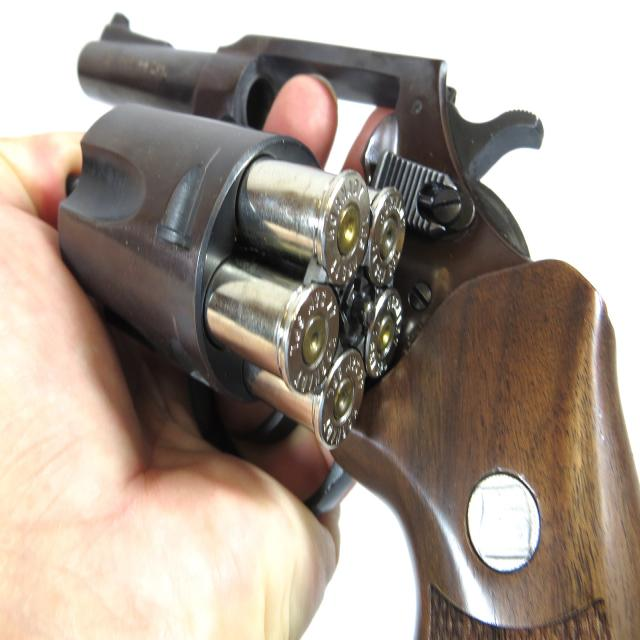Gun: (44, 13, 640, 640)
